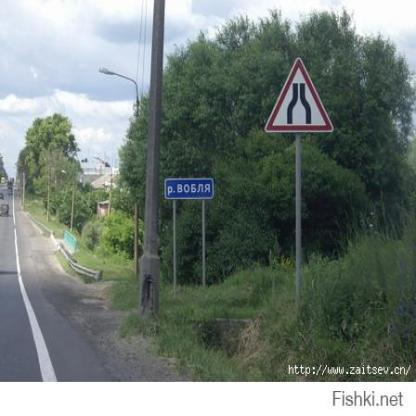road_sign: (264, 57, 333, 131)
